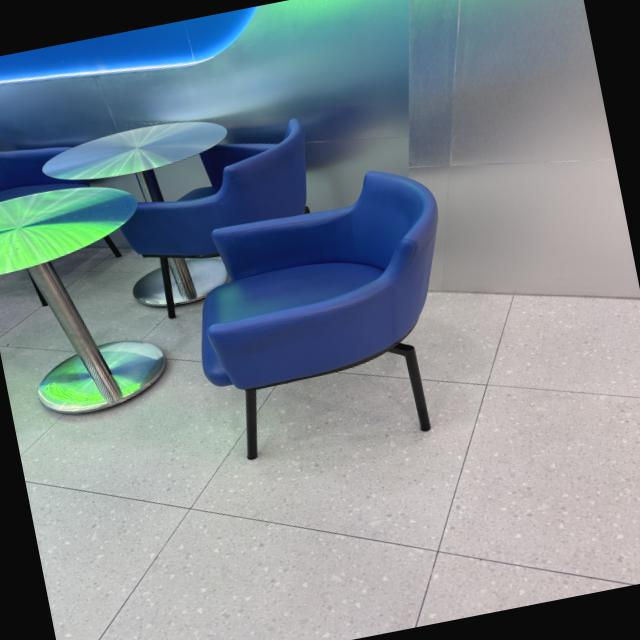Chair: (158, 150, 518, 488), (98, 101, 345, 332)
